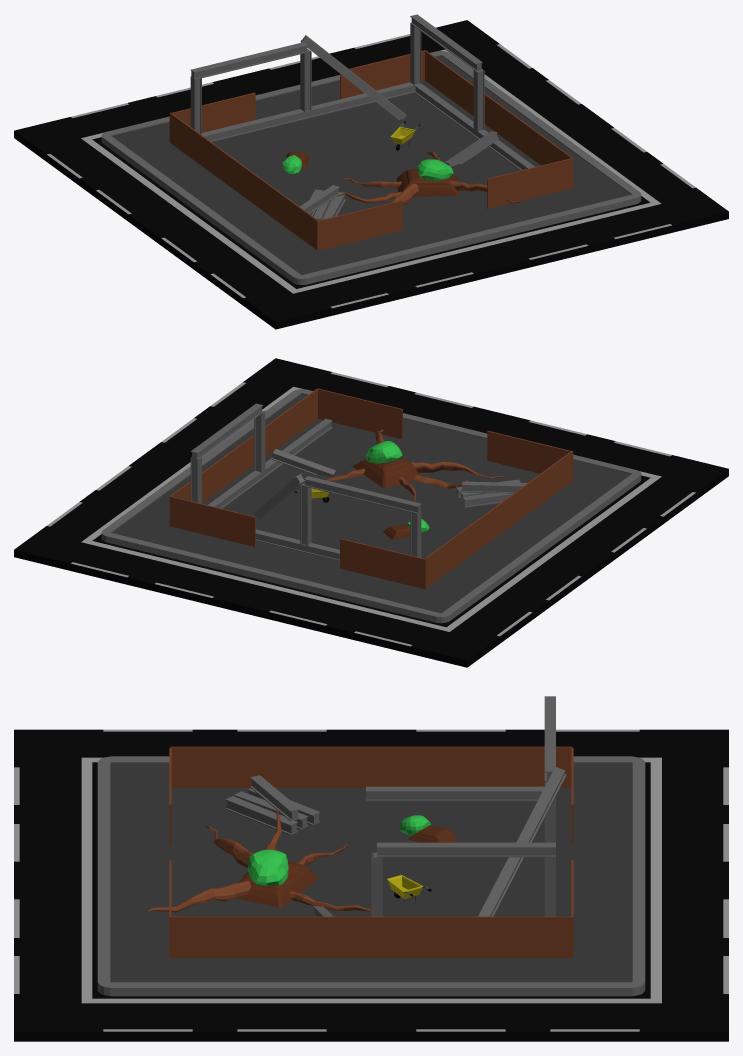
File: ConstructionSiteTile.glb
3 renders of one model, top to bottom at view 1: azimuth 30°, elevation 25°; view 2: azimuth 150°, elevation 25°; view 3: azimuth 270°, elevation 25°, orthographic. The views are drawn at different scales.
Parts seen in each view (by area): view 1: ConstructionSite-col; view 2: ConstructionSite-col; view 3: ConstructionSite-col.
Part boxes in pixels (x1=…): ConstructionSite-col: x1=14, y1=14, x2=728, y2=329; ConstructionSite-col: x1=14, y1=358, x2=728, y2=667; ConstructionSite-col: x1=14, y1=696, x2=728, y2=1041.
Bounding box in the file's own units: 128 × 26.29 × 128.
1 material, 1 textured.
